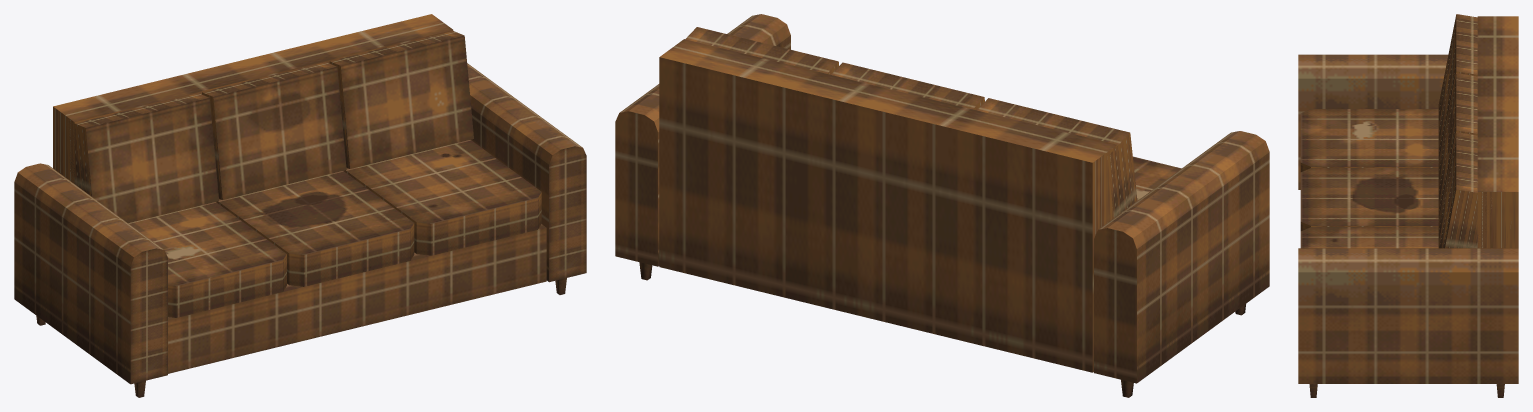
Rendered from sofa_old.obj.
3 renders of one model, left to right at view 1: azimuth 30°, elevation 25°; view 2: azimuth 150°, elevation 25°; view 3: azimuth 270°, elevation 25°, orthographic. The views are drawn at different scales.
Visible parts, largest first — view 1: sofa_old; view 2: sofa_old; view 3: sofa_old.
Boxes of the visible parts, x1=… form: sofa_old: x1=14, y1=14, x2=586, y2=397; sofa_old: x1=615, y1=14, x2=1269, y2=397; sofa_old: x1=1298, y1=14, x2=1518, y2=397.
Size of the model in its own units: 1.95 by 0.85 by 0.86.
Materials: 1 (1 with a texture image).
